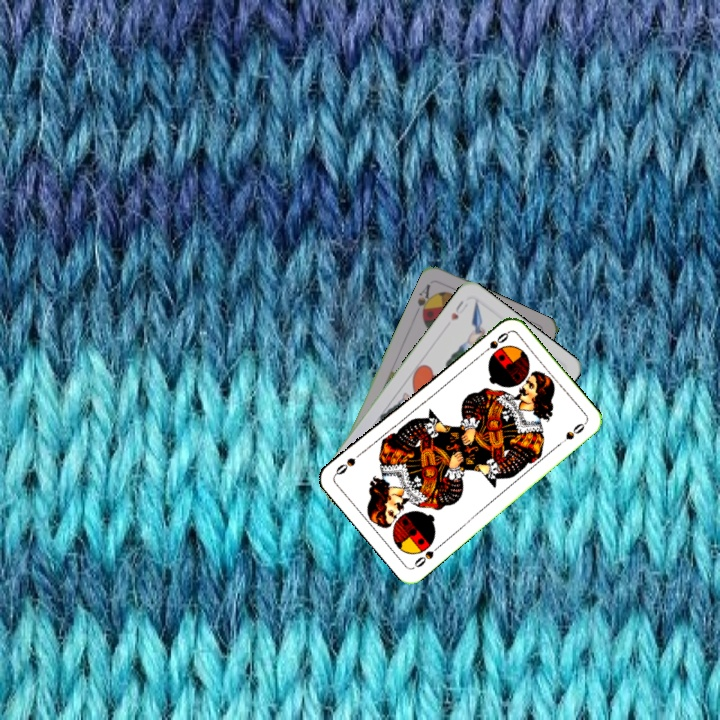HU: (447, 296, 471, 323)
SA: (413, 280, 437, 320)
SO: (410, 540, 444, 571), (477, 328, 511, 358)
